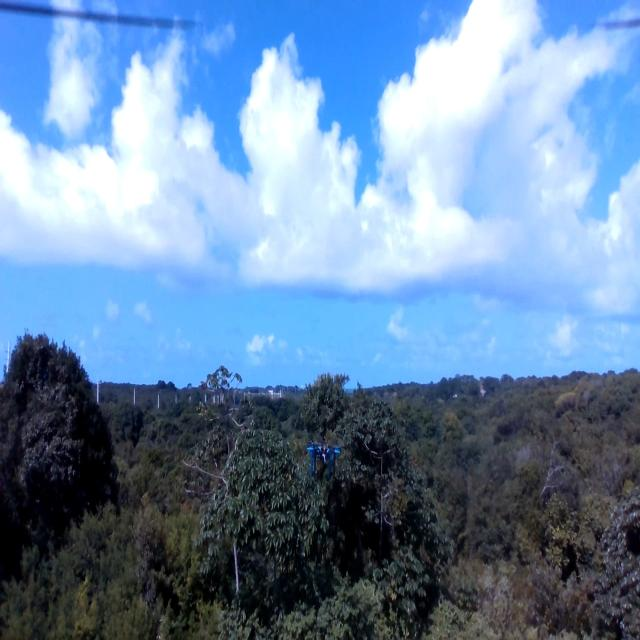-uav-: (295, 424, 347, 489)
